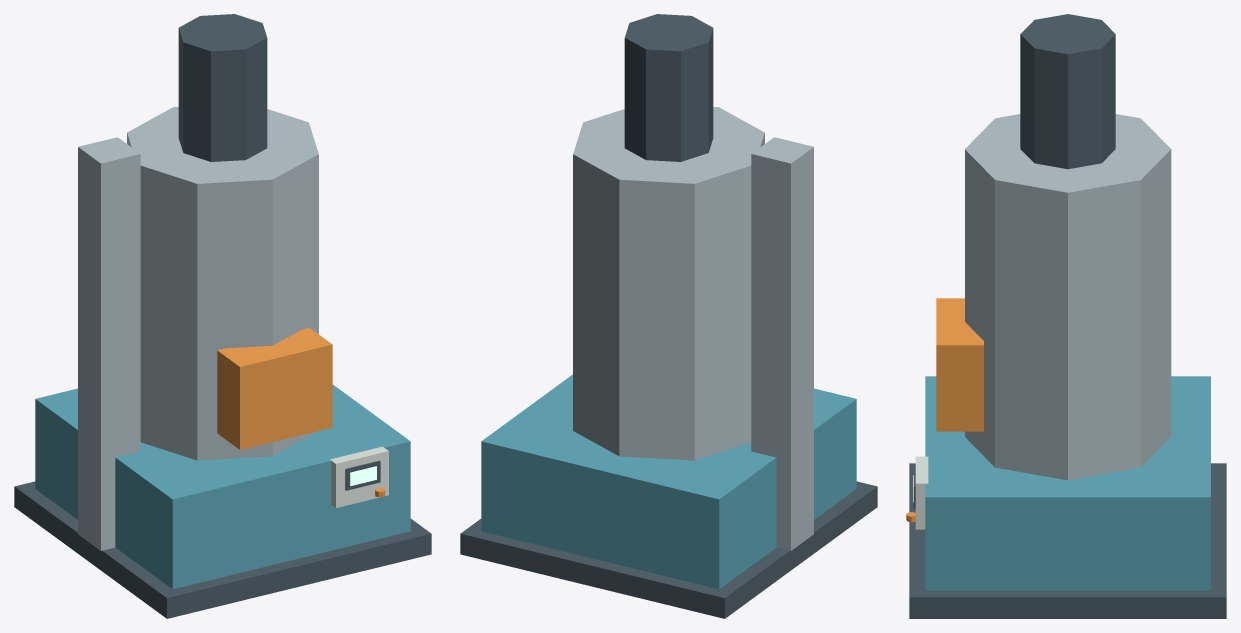
File: ore-smelting-tower.glb
The picture shows the model from 3 angles, left to right: view 1: azimuth 30°, elevation 25°; view 2: azimuth 150°, elevation 25°; view 3: azimuth 270°, elevation 25°; orthographic projection. The views are drawn at different scales.
Parts seen in each view (by area): view 1: steel, blue, dark, orange, cream; view 2: steel, blue, dark; view 3: steel, blue, dark, orange, cream.
Boxes of the visible parts, box(x1,y1,x2,y2) form: steel: box(78, 106, 318, 550); blue: box(35, 384, 410, 589); dark: box(14, 14, 431, 618); orange: box(217, 328, 385, 497); cream: box(330, 446, 388, 507); steel: box(573, 106, 813, 550); blue: box(481, 374, 856, 589); dark: box(460, 14, 877, 618); steel: box(965, 114, 1171, 480); blue: box(925, 376, 1210, 590); dark: box(909, 14, 1226, 618); orange: box(906, 298, 983, 522); cream: box(915, 456, 928, 529).
Size of the model in its own units: 2.01 by 3.6 by 2.02.
